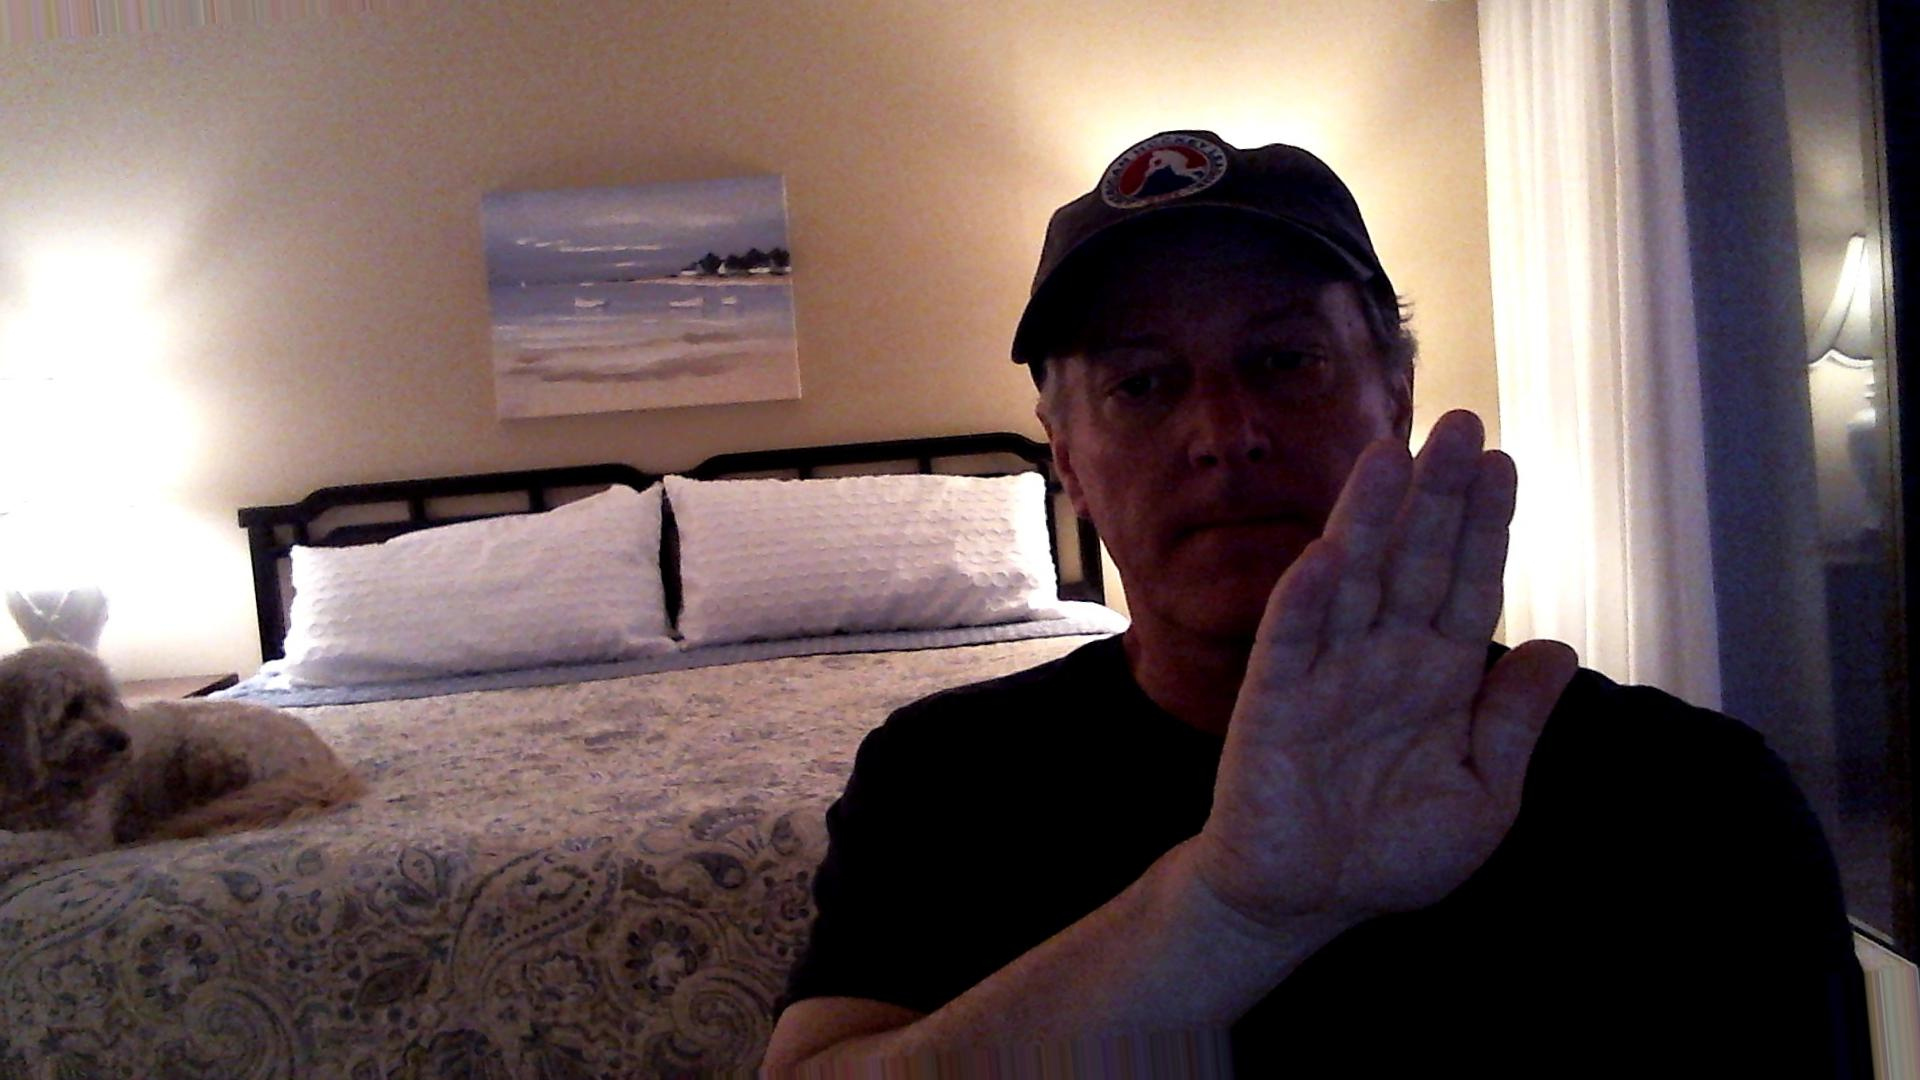Hello: (1205, 394, 1589, 957)
